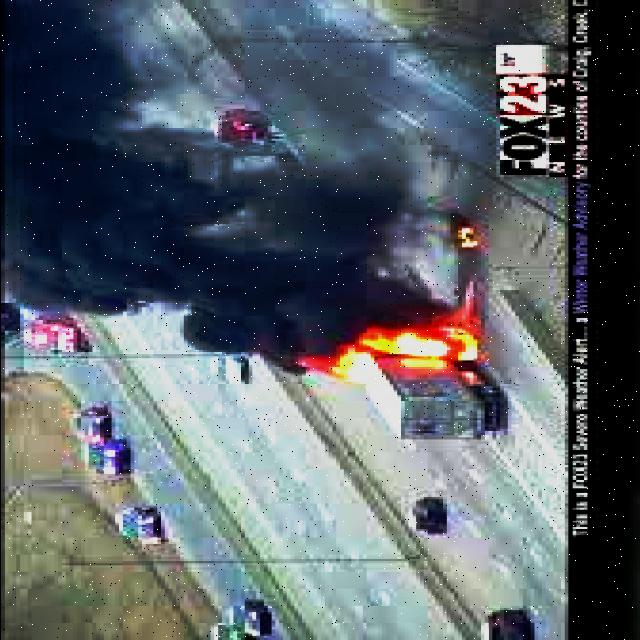api: (291, 279, 493, 385), (439, 221, 485, 261)
